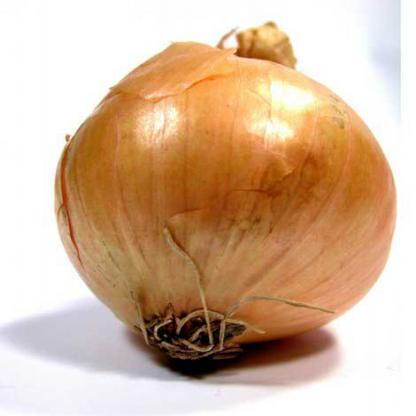onion: (57, 29, 410, 373)
